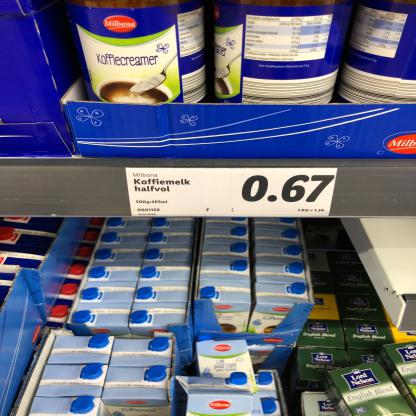prtg: (126, 168, 339, 217)
